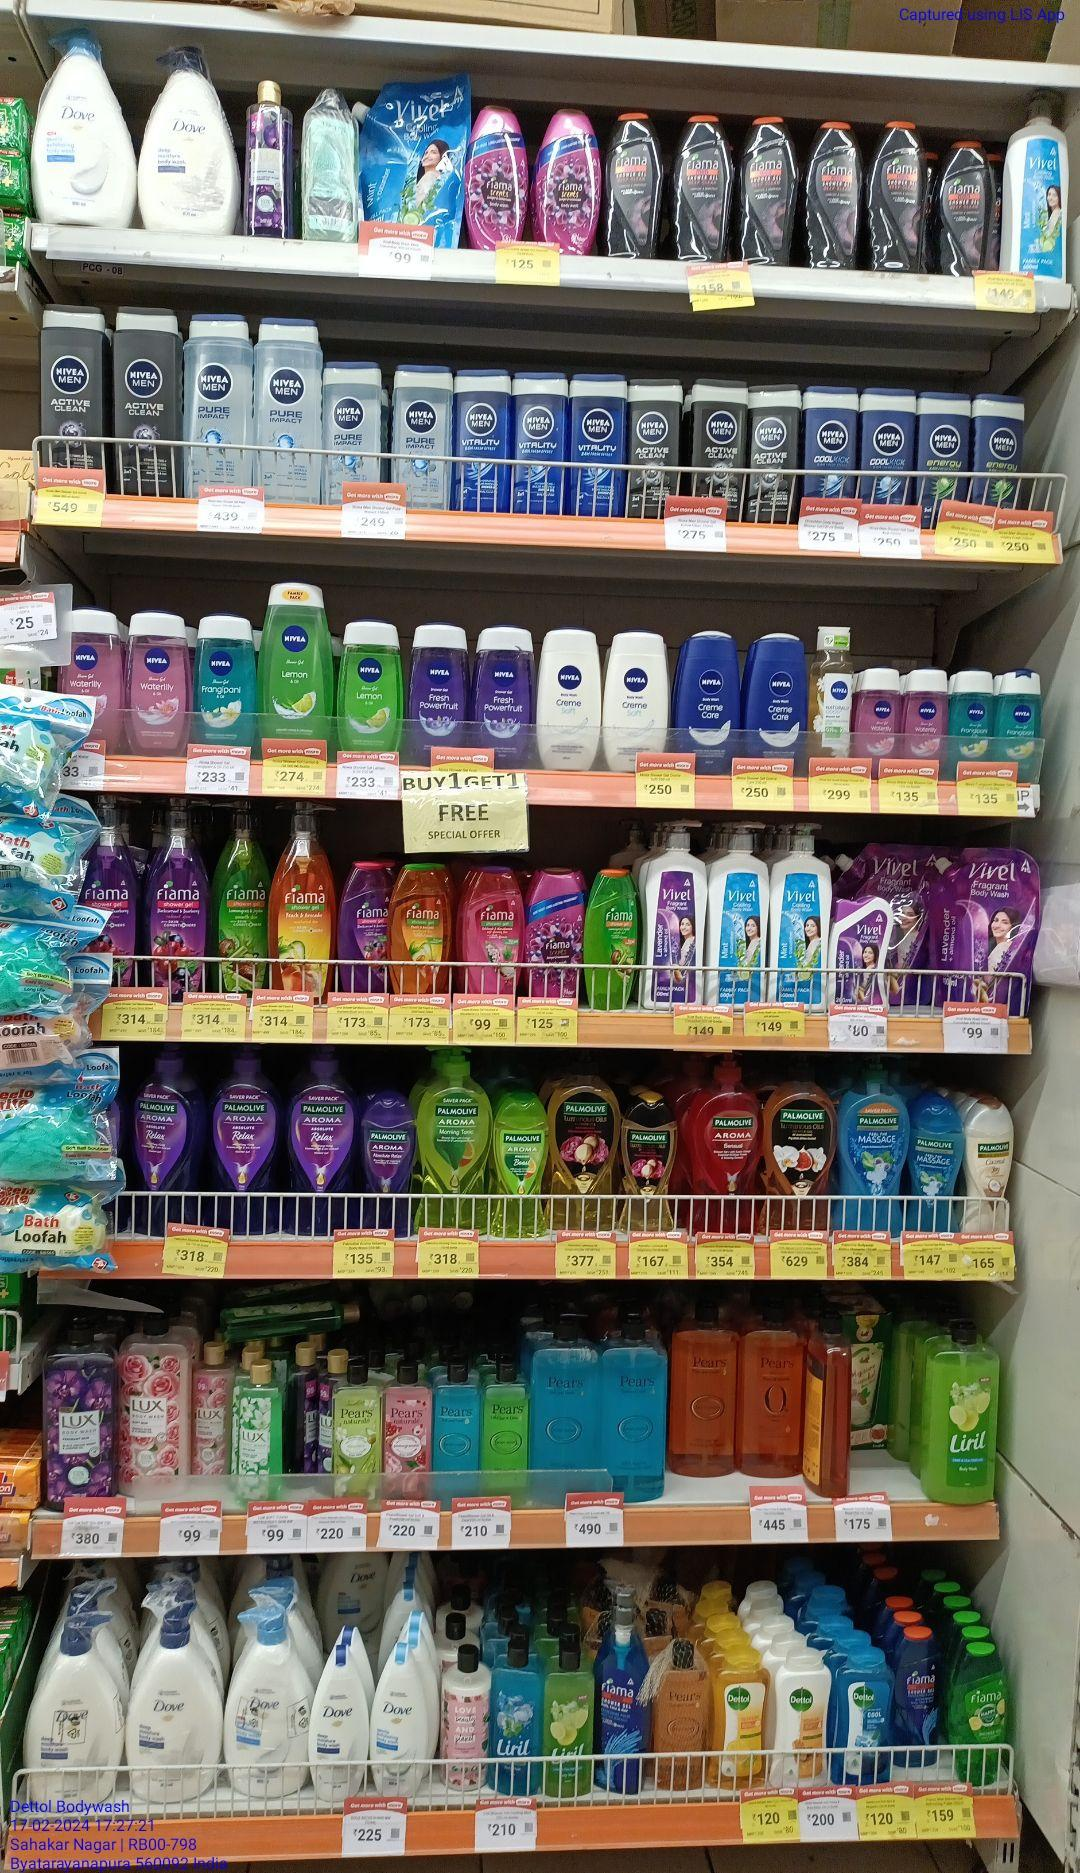Dettol_Bodywash_Cool: (831, 1641, 890, 1784)
Dettol_Bodywash_Refresh: (710, 1644, 766, 1792)
Dettol_Nourish_Body_Wash_250ML: (770, 1644, 828, 1792)
Dove_Deep_Moisture_Body_Wash_250ML: (309, 1635, 370, 1800)
Dove_Gentle_Exfoliating_Body_Wash_250ML: (373, 1641, 426, 1795)
Fiama_Shower_Gel_Lemongrass_and_Jojoba_250ML: (582, 870, 635, 1007)
Fiama_Shower_Gel_Patchouli_and_Macadamia_250ML: (462, 866, 521, 992)
Fiama_Shower_Gel_Peach_and_Avocado_250ML: (388, 862, 451, 996)
Liril_Cooling_Mint_Body_Wash_250ML: (492, 1640, 539, 1795)
Liril_Lime_and_Tea_Tree_Oil_Body_Wash_250ML: (544, 1643, 593, 1793)
Lux_Black_Orchid_Scent_and_Juniper_Oil_Body_Wash_245ML: (242, 77, 296, 241)
Lux_Body_Wash_Skin_Detox_Freesia_Scent_and_Alove_Vera_245ML: (235, 1360, 285, 1504)
Nivea_Creme_Care_Body_Wash_250ML: (678, 629, 739, 776), (743, 630, 805, 756)
Nivea_Creme_Soft_Body_Wash_250ML: (539, 628, 603, 772), (609, 628, 669, 768)
Nivea_Shower_Gel_Frangipani_and_Oil_250ML: (195, 615, 253, 742)
Nivea_Shower_Gel_Fresh_Powerfruit_250ML: (473, 629, 527, 765), (409, 628, 463, 746)
Nivea_Shower_Gel_Lemon_and_Oil_250ML: (261, 584, 332, 738), (339, 621, 402, 751)
Nivea_Shower_Gel_Waterlily_and_Oil_250ML: (129, 611, 186, 756)
Palmolive_Aroma_Moments_Feel_The_Massage_Shower_Gel_250ML: (910, 1096, 958, 1231)
Palmolive_Aroma_Morning_Tonic_Shower_Gel_250ML: (490, 1091, 546, 1238)
Palmolive_Aroma_Relax_250ML: (354, 1091, 410, 1232)
Palmolive_Coconut_Joy_Exfoliating_Body_Wash_250ML: (964, 1097, 1005, 1232)
Palmolive_Luminous_Oils_Invigorating_Macadamia_Oil_With_Peony_250ML: (617, 1090, 674, 1232)
Pears_Naturale_Aloe_Vera_Body_Wash_250ML: (330, 1361, 381, 1500)
Pears_Pure_Glycerin_and_Lemon_Flower_Extracts_Body_Wash_250ML: (482, 1360, 528, 1496)
Pears_Pure_Glycerin_and_Mint_Extracts_Body_Wash_250ML: (435, 1364, 478, 1497)
